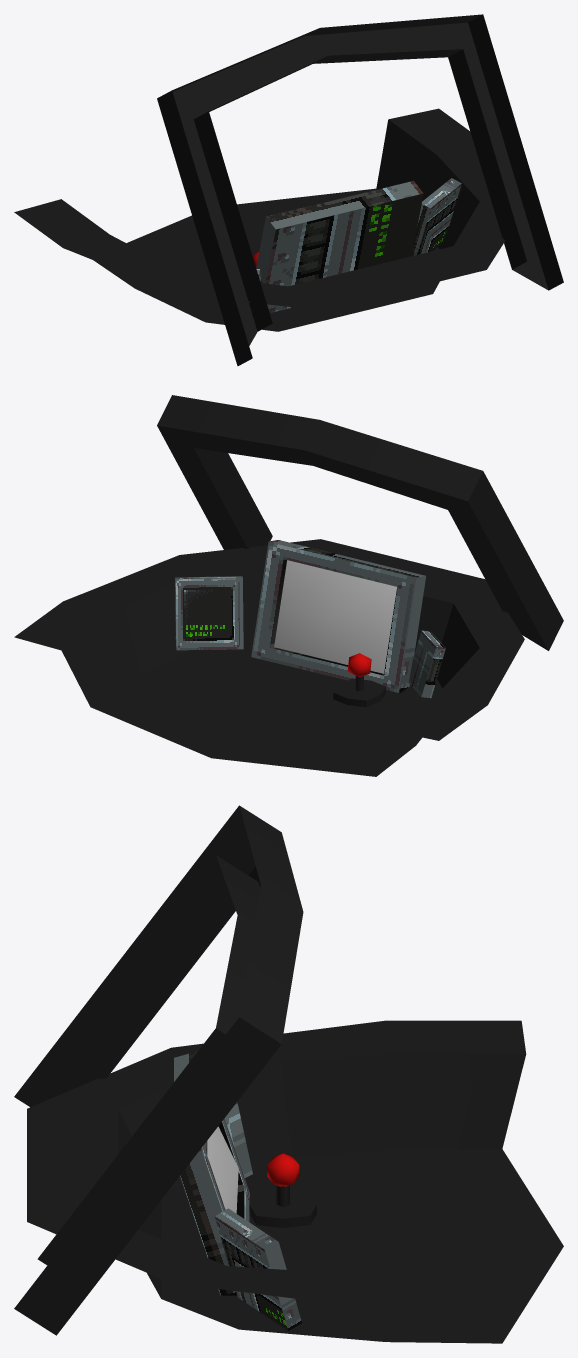
Rendered from panels.obj.
3 renders of one model, top to bottom at view 1: azimuth 30°, elevation 25°; view 2: azimuth 150°, elevation 25°; view 3: azimuth 270°, elevation 25°, orthographic. The views are drawn at different scales.
Parts seen in each view (by area): view 1: Cube.001, Cube, Cube.002, Cube.003; view 2: Cube, Cube.001, Cube.002, Cube.003, Joystick_Base, Cube.004; view 3: Cube, Cube.001, Cube.002, Cube.003, Joystick_Base, Cube.004.
Part boxes in pixels (<box>): Cube.001: <box>157,14,563,365</box>; Cube: <box>14,108,505,331</box>; Cube.002: <box>256,181,423,312</box>; Cube.003: <box>411,178,461,255</box>; Cube: <box>14,539,524,776</box>; Cube.001: <box>157,395,563,650</box>; Cube.002: <box>251,540,426,692</box>; Cube.003: <box>175,576,243,650</box>; Joystick_Base: <box>333,653,385,707</box>; Cube.004: <box>408,630,445,698</box>; Cube: <box>27,1020,563,1343</box>; Cube.001: <box>14,805,303,1335</box>; Cube.002: <box>174,1051,249,1295</box>; Cube.003: <box>214,1208,301,1330</box>; Joystick_Base: <box>249,1153,316,1227</box>; Cube.004: <box>224,1102,252,1177</box>.
Bounding box in the file's own units: 7.66 × 4.54 × 6.15.
